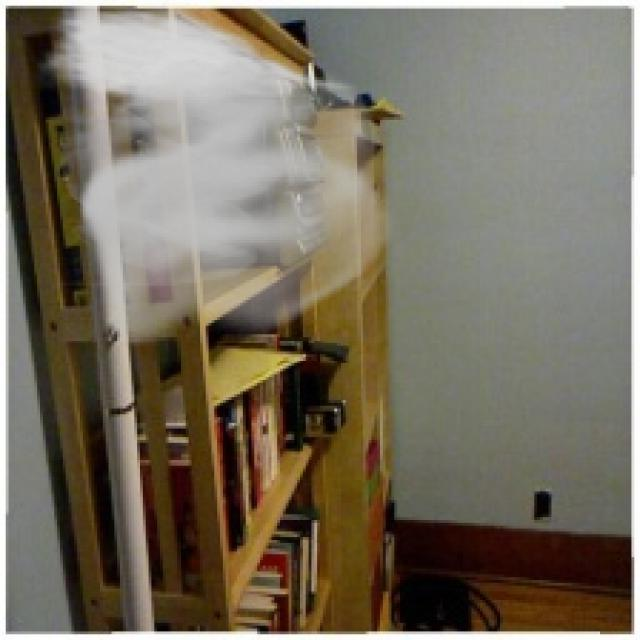Smoke: (37, 0, 403, 346)
